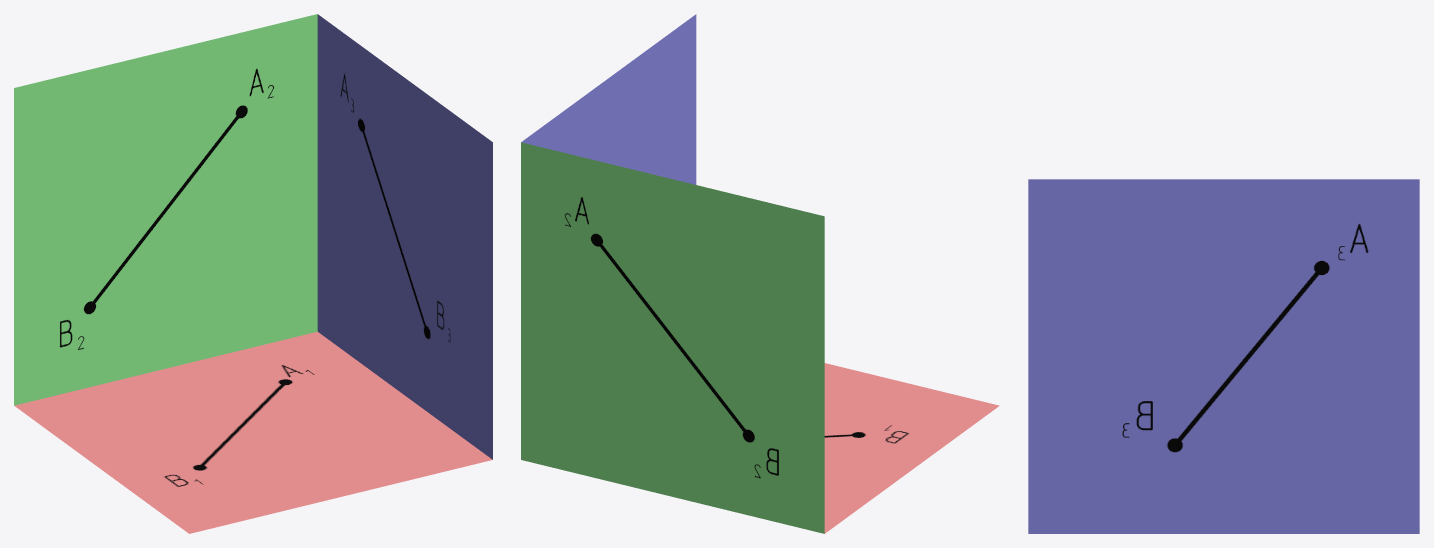
File: planes.glb
The picture shows the model from 3 angles, left to right: view 1: azimuth 30°, elevation 25°; view 2: azimuth 150°, elevation 25°; view 3: azimuth 270°, elevation 25°; orthographic projection. The views are drawn at different scales.
Visible parts, largest first — view 1: p2, p3, p1; view 2: p2, p1, p3; view 3: p3.
Boxes of the visible parts, <box> form: p2: <box>14,14,317,405</box>; p3: <box>317,14,492,459</box>; p1: <box>14,331,492,533</box>; p2: <box>521,142,824,533</box>; p1: <box>824,363,999,533</box>; p3: <box>521,14,696,184</box>; p3: <box>1028,179,1419,533</box>.
Bounding box in the file's own units: 4 × 4 × 4.
Materials: 3 (3 with a texture image).
